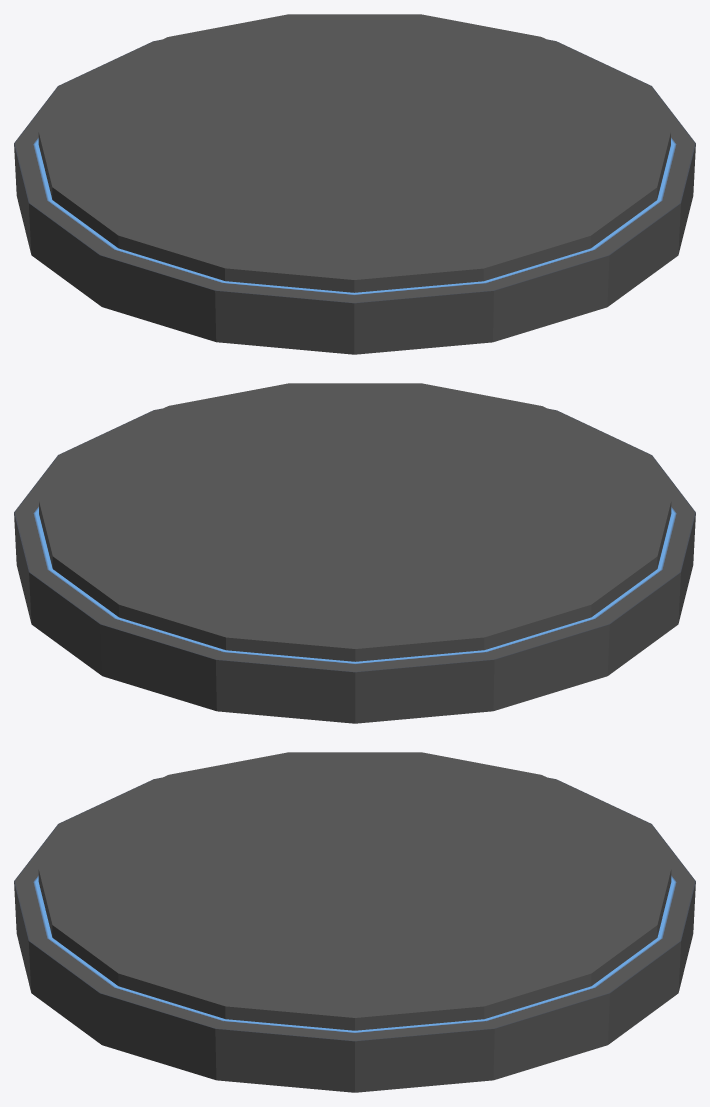
The model's file is GlassSphereWreckage.fbx.
3 views of the same model, one above another, from view 1: azimuth 30°, elevation 25°; view 2: azimuth 150°, elevation 25°; view 3: azimuth 270°, elevation 25° (orthographic).
Parts seen in each view (by area): view 1: pPlatonic2; view 2: pPlatonic2; view 3: pPlatonic2.
Part boxes in pixels (x1=…): pPlatonic2: x1=14, y1=14, x2=695, y2=354; pPlatonic2: x1=14, y1=383, x2=695, y2=723; pPlatonic2: x1=14, y1=752, x2=695, y2=1092.
Size of the model in its own units: 1.96 by 0.2082 by 1.97.
